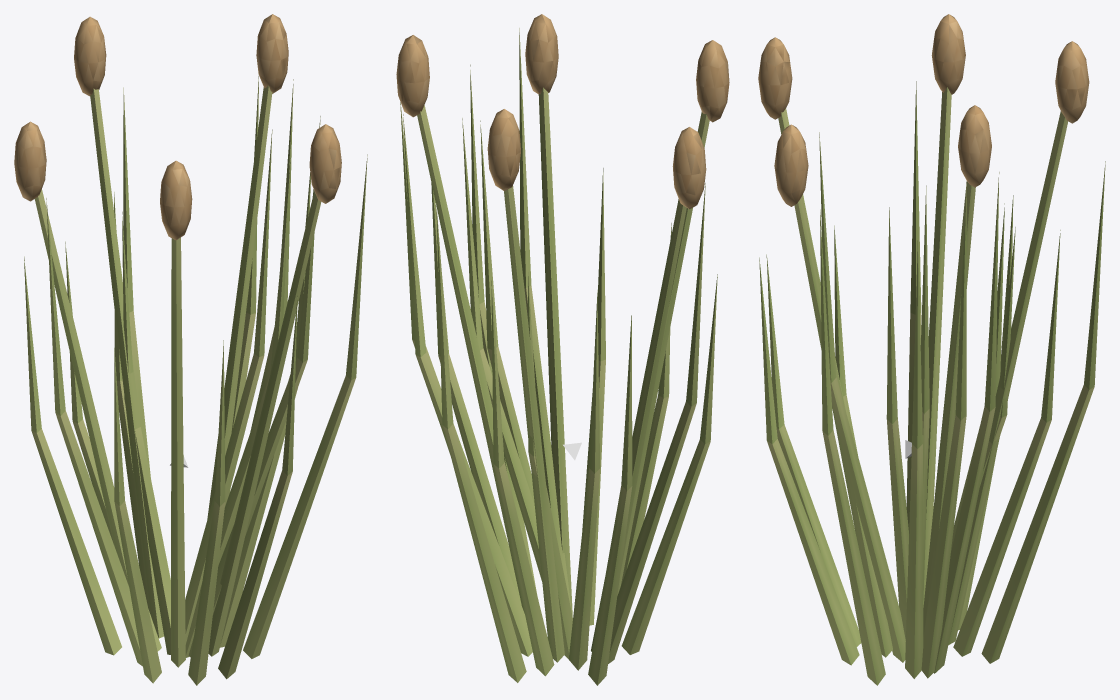
Rendered from SM_FiberPlant01.fbx.
The picture shows the model from 3 angles, left to right: view 1: azimuth 30°, elevation 25°; view 2: azimuth 150°, elevation 25°; view 3: azimuth 270°, elevation 25°; orthographic projection. The views are drawn at different scales.
Visible parts, largest first — view 1: SM_FiberPlant01; view 2: SM_FiberPlant01; view 3: SM_FiberPlant01.
Part boxes in pixels (x1=…): SM_FiberPlant01: x1=14, y1=14, x2=367, y2=685; SM_FiberPlant01: x1=396, y1=14, x2=729, y2=685; SM_FiberPlant01: x1=758, y1=14, x2=1105, y2=685.
Size of the model in its own units: 1.93 by 3.79 by 1.95.
1 material, 1 textured.
